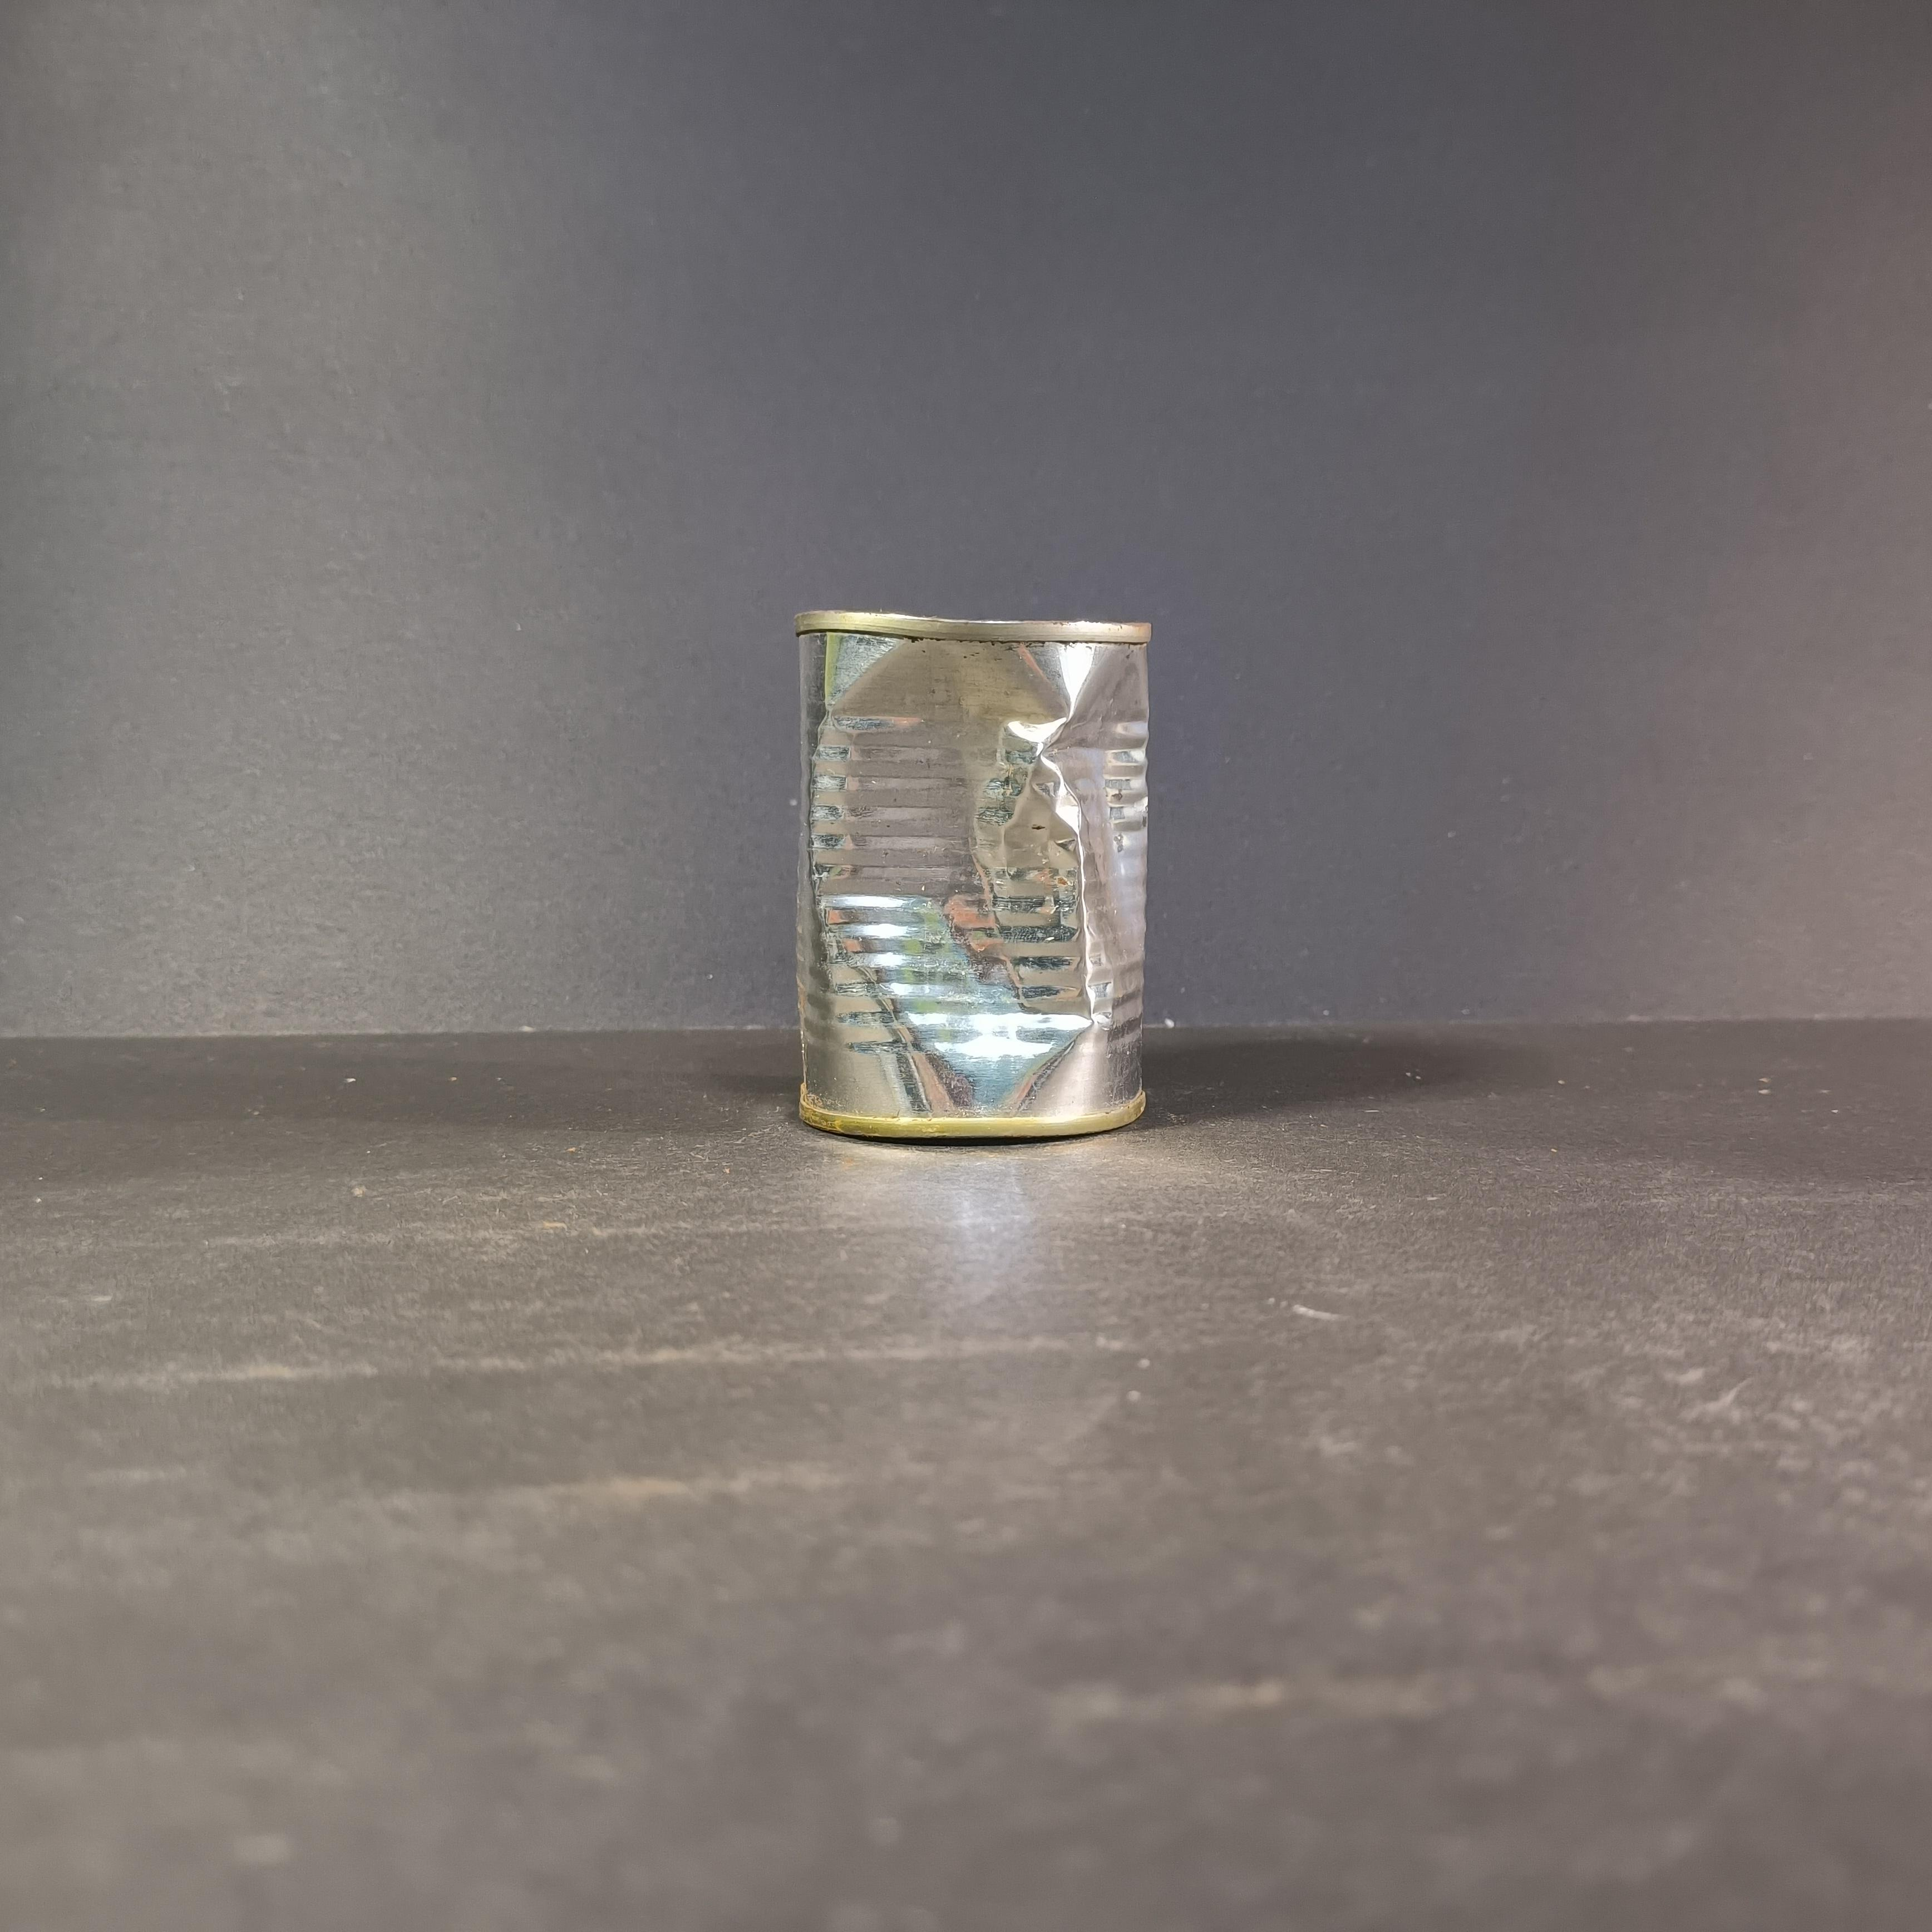Dented: (773, 584, 1180, 1152)
